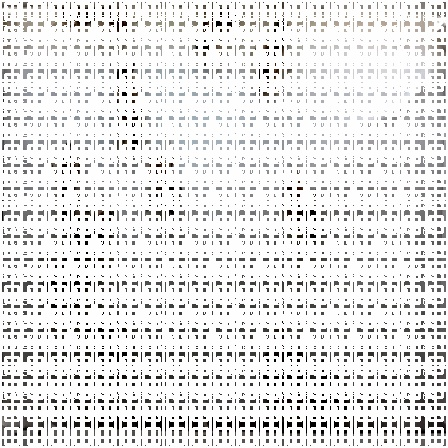bee: (255, 152, 341, 262), (95, 47, 159, 154), (241, 313, 314, 403), (136, 131, 198, 232), (68, 304, 145, 381), (34, 135, 89, 236), (24, 258, 101, 324), (249, 9, 300, 103), (304, 354, 356, 434), (187, 3, 242, 72)
